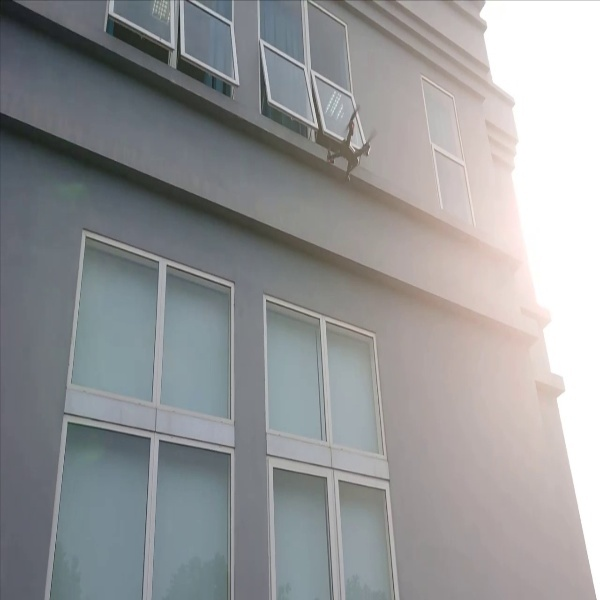drone: (317, 104, 380, 187)
